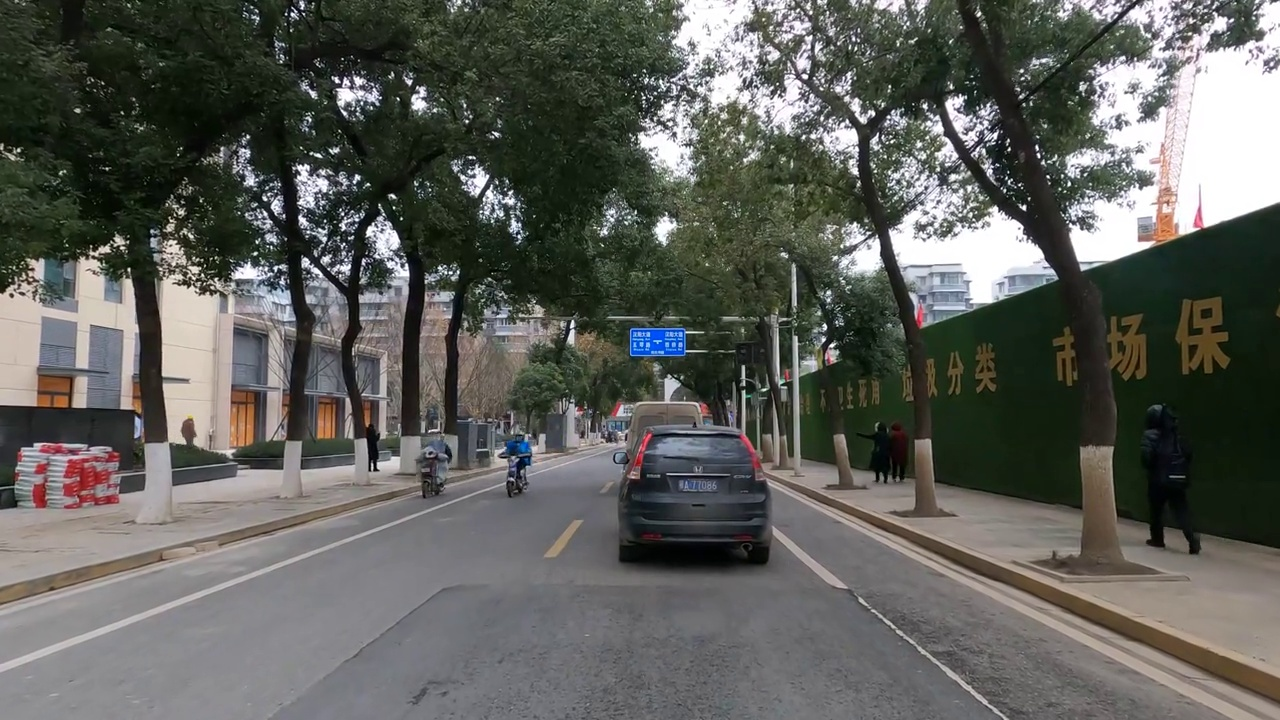lane: (958, 577, 1253, 720), (1, 554, 317, 666), (800, 554, 1004, 720), (541, 517, 581, 557)
